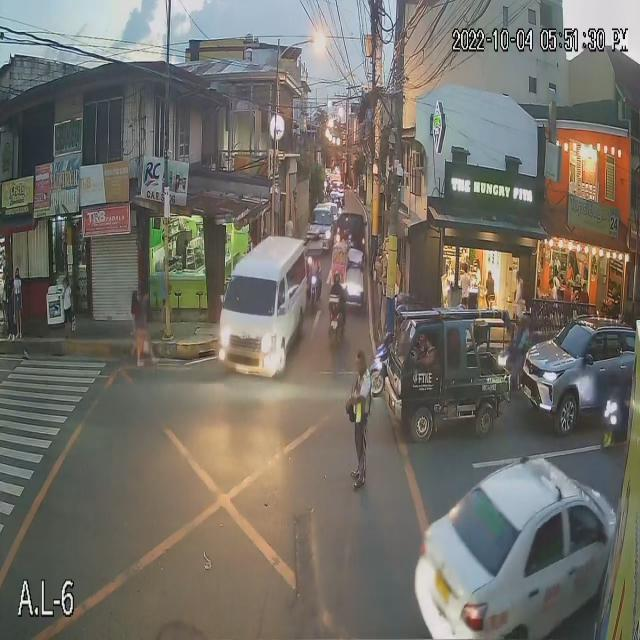helmet: (515, 312, 538, 330), (393, 303, 411, 324), (332, 271, 342, 286)
motorcycle: (362, 351, 423, 398), (491, 348, 554, 388), (597, 386, 632, 449)
rider: (392, 325, 413, 368), (512, 330, 534, 360), (327, 284, 346, 316)
